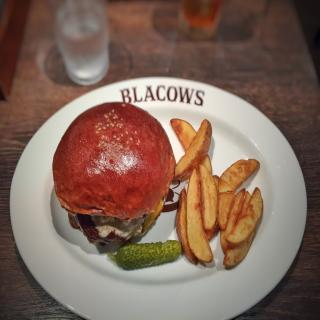French fries: (173, 111, 257, 274)
Hamburger: (51, 102, 176, 244)
Potato: (173, 118, 264, 270)
